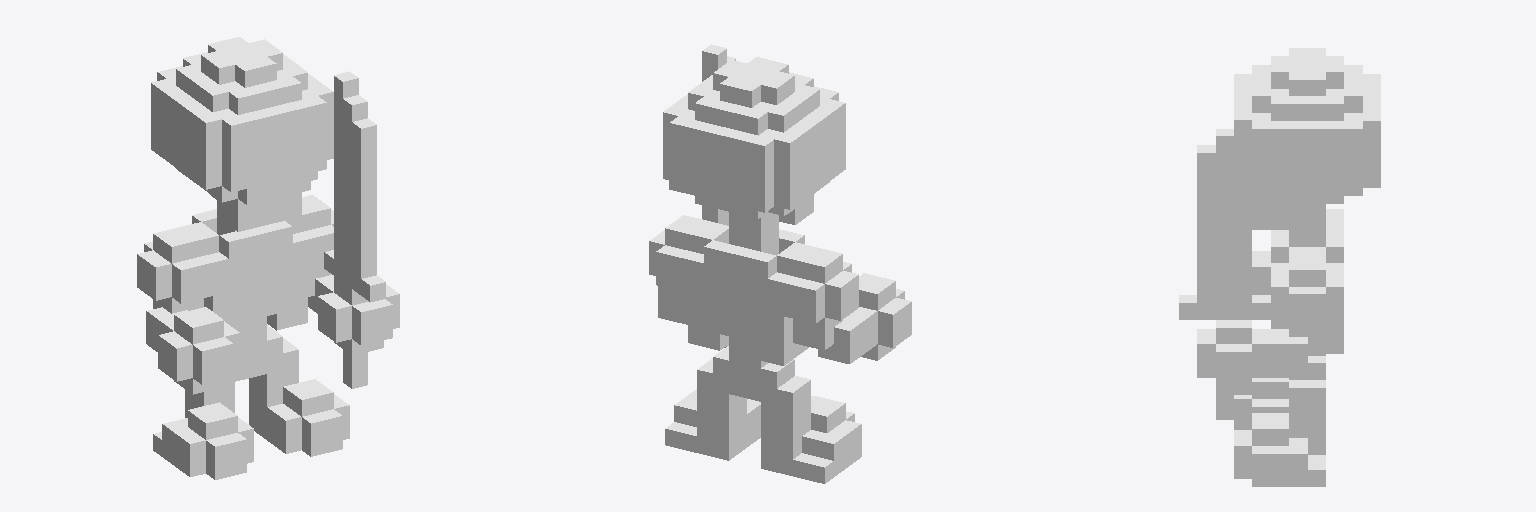
File: mRoam.obj
3 renders of one model, left to right at view 1: azimuth 30°, elevation 25°; view 2: azimuth 150°, elevation 25°; view 3: azimuth 270°, elevation 25°, orthographic.
Visible parts, largest first — view 1: object 1; view 2: object 1; view 3: object 1.
Boxes of the visible parts, x1,y1,x2,y2 form: object 1: [137, 37, 399, 479]; object 1: [649, 44, 911, 483]; object 1: [1179, 48, 1380, 486].
Size of the model in its own units: 1.4 by 2.3 by 1.1.